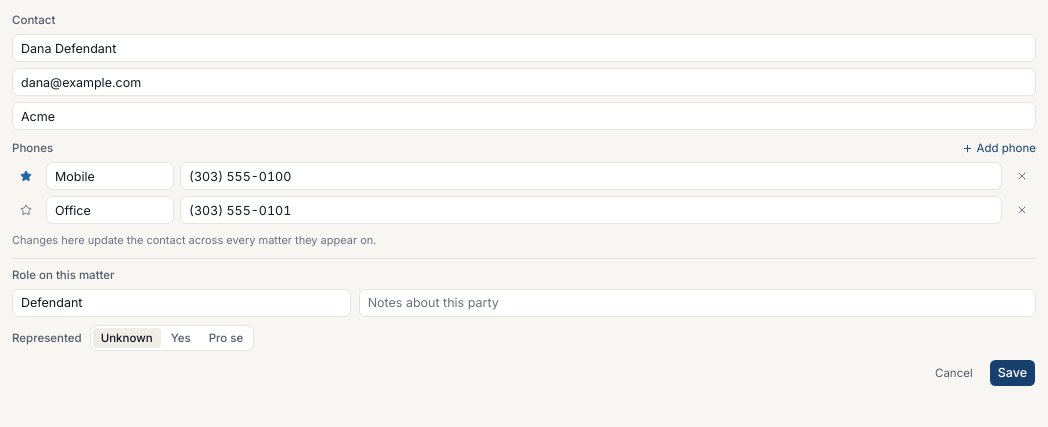
Scenario: PartyEditForm - result handling › a rejected submit keeps what the user typed and shows form-level errors
Type "keep me" into the field labelled "Notes". click: (697, 303)
box: [359,289,1036,317]
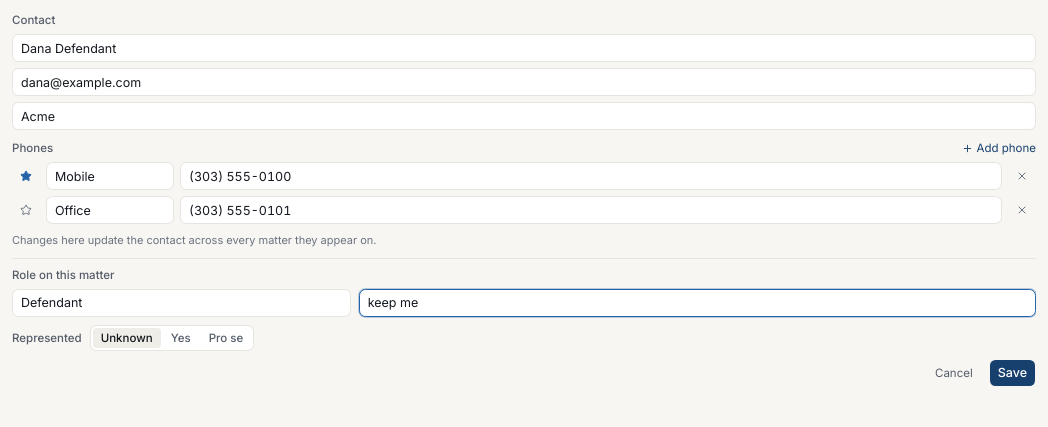
Click the button "Save". click: (1012, 373)
box: [989,359,1036,387]
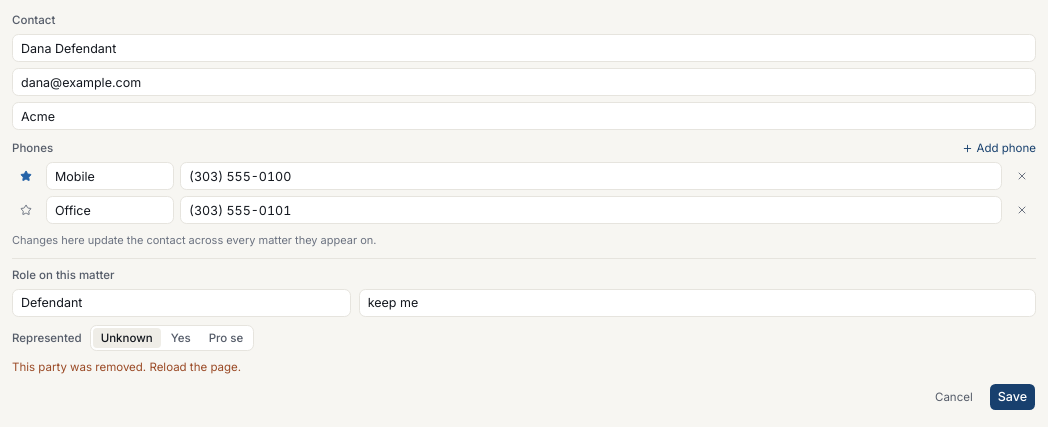
Expected: the message shows "party was removed", [12,360,241,374]
